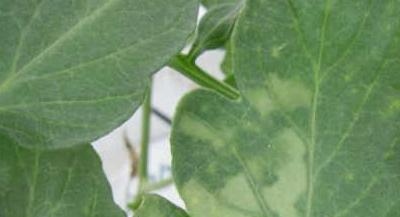Tomato leaf bacterial spot: (113, 0, 400, 217)
